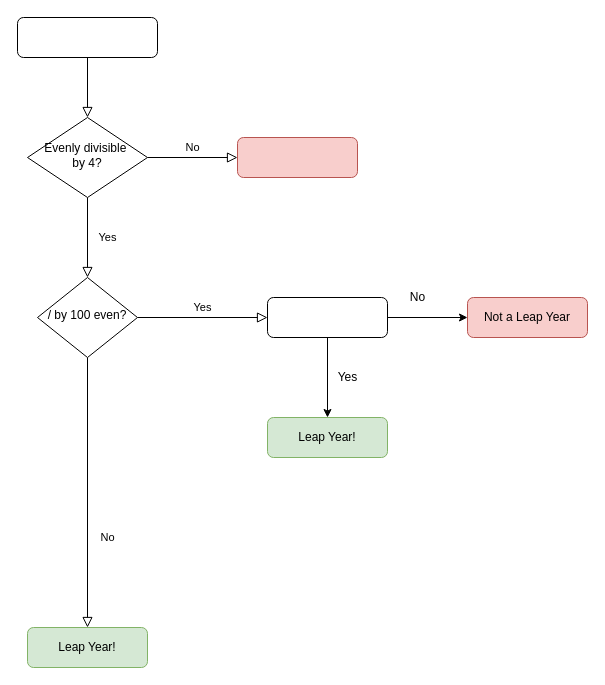
Image size: 605x685. Some labels were removed from this diagram. Here are the shapes that lost their labels. From the top down, the centre of each, then its label:
(87,37): Is it a Leap Year?
(297,157): Not Leap Year
(327,317): / by 400 evenly?
